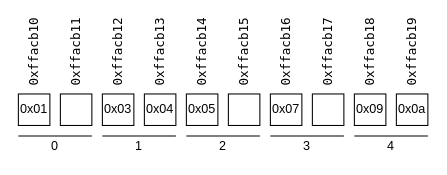
The diagram is 447 pixels wide and 175 high, and some of its shapes have lost their labels. Each missing label, with the box of its shape:
0x02: (59, 93, 92, 125)
0x06: (227, 93, 260, 125)
0x08: (311, 93, 344, 125)
